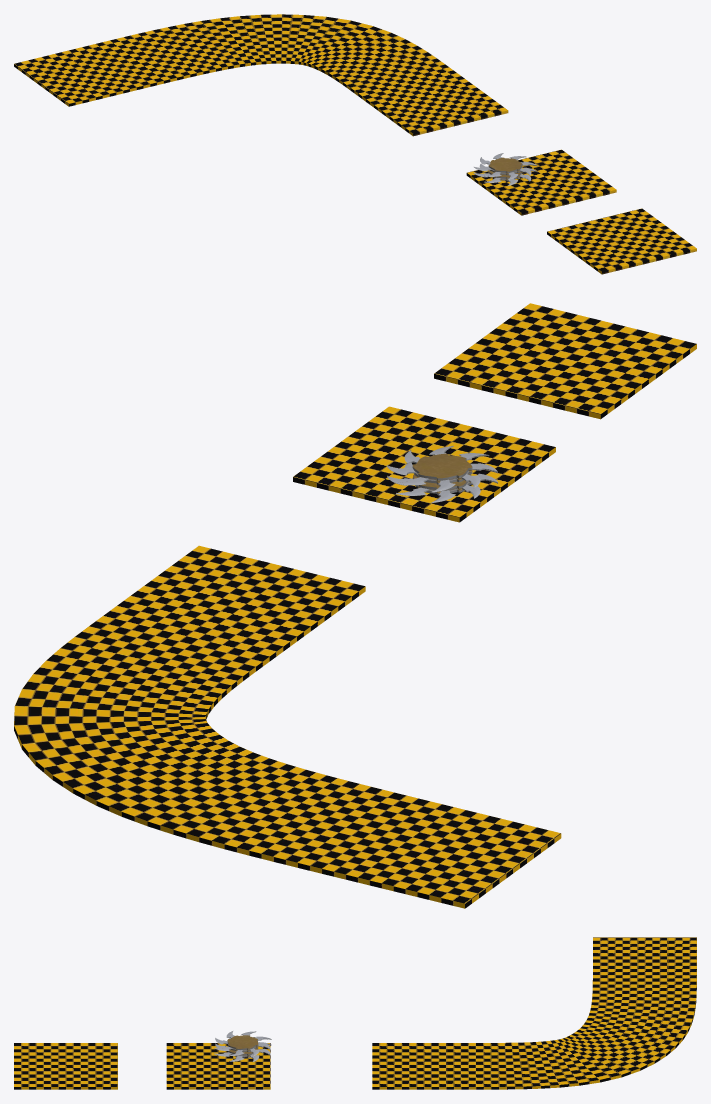
Rendered from path.fbx.
The picture shows the model from 3 angles, top to bottom: view 1: azimuth 30°, elevation 25°; view 2: azimuth 150°, elevation 25°; view 3: azimuth 270°, elevation 25°; orthographic projection. The views are drawn at different scales.
Parts seen in each view (by area): view 1: curve, plane.001, plane, saw blade.001, saw blade.002; view 2: curve, plane.001, plane, saw blade.001, saw blade.002; view 3: curve, plane.001, plane, saw blade.001, saw blade.002.
Part boxes in pixels (x1,y1,x2,y2): curve: (14,14,508,136); plane.001: (547,208,696,274); plane: (466,149,616,215); saw blade.001: (474,153,537,179); saw blade.002: (473,162,537,185); curve: (14,545,561,908); plane.001: (434,303,696,419); plane: (293,406,555,522); saw blade.001: (387,445,497,492); saw blade.002: (387,462,497,503); curve: (372,937,696,1089); plane.001: (14,1043,117,1089); plane: (166,1043,270,1089); saw blade.001: (214,1031,271,1056); saw blade.002: (214,1037,271,1061).
Bounding box in the file's own units: 10428 × 593 × 20138.
Materials: 2 (2 with a texture image).
